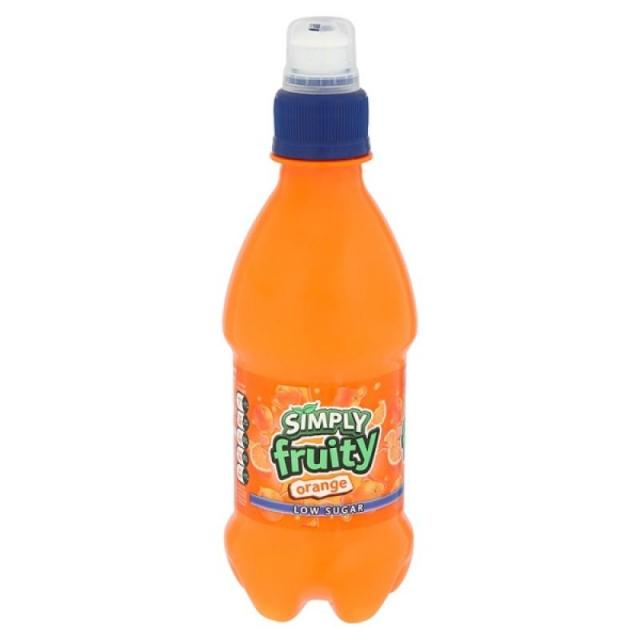plastic_bottle: (229, 21, 408, 623)
